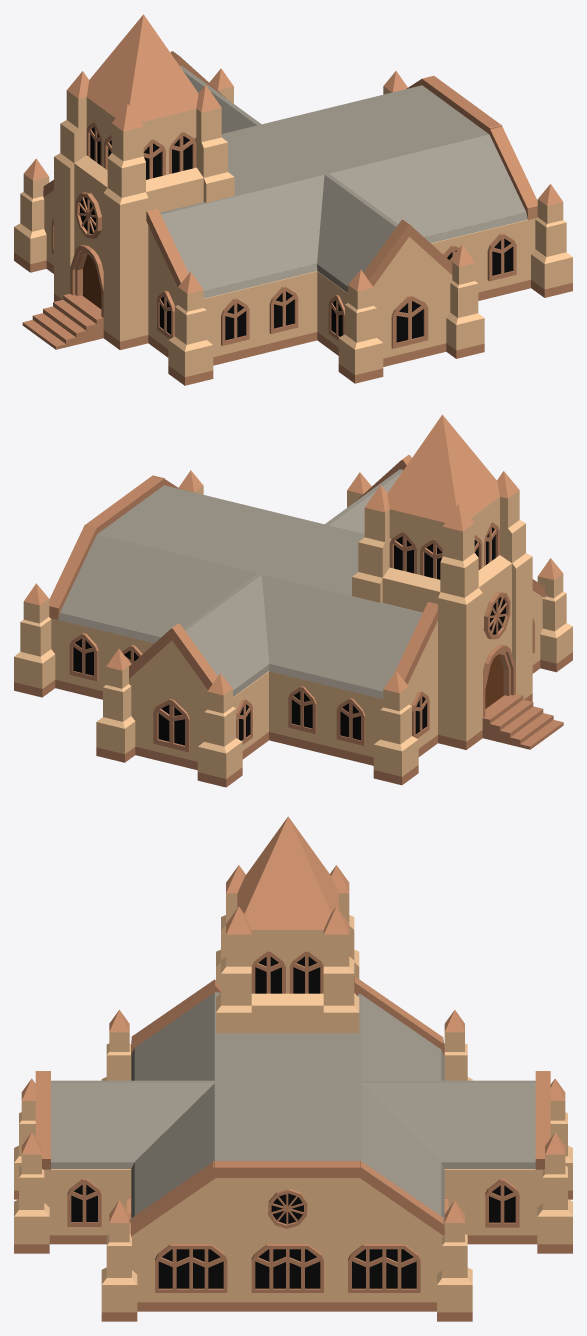
Rendered from church.fbx.
3 renders of one model, top to bottom at view 1: azimuth 30°, elevation 25°; view 2: azimuth 150°, elevation 25°; view 3: azimuth 270°, elevation 25°, orthographic. The views are drawn at different scales.
Parts seen in each view (by area): view 1: church2; view 2: church2; view 3: church2.
Part boxes in pixels (<box>): church2: <box>14,14,572,385</box>; church2: <box>14,414,572,787</box>; church2: <box>14,816,572,1321</box>.
Size of the model in its own units: 11050 by 7023 by 11000.
